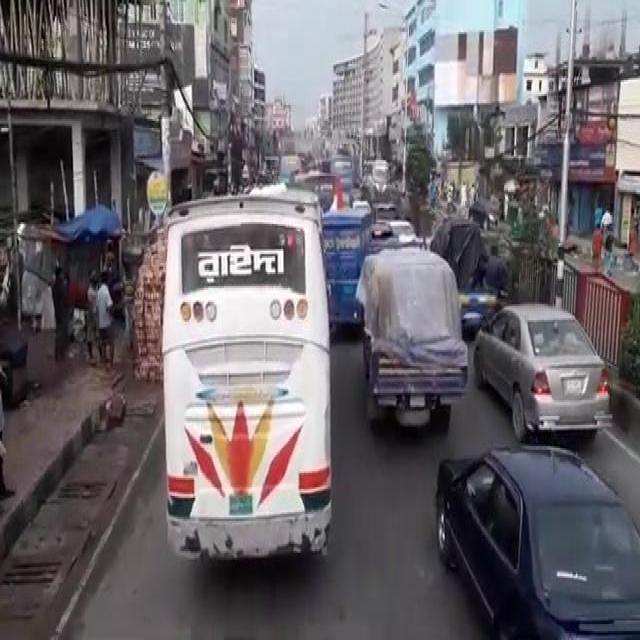bus: (159, 187, 333, 560), (292, 169, 343, 208), (320, 153, 353, 187), (361, 156, 389, 188)
car: (434, 439, 637, 637), (471, 302, 610, 432), (387, 215, 416, 238)
truck: (355, 235, 468, 425), (429, 215, 496, 324), (322, 204, 372, 324)
